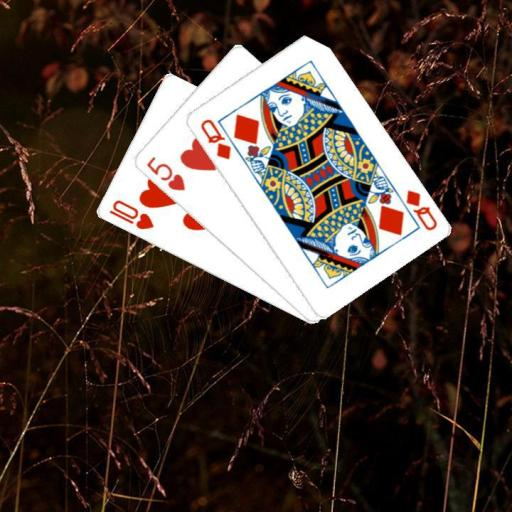10H: (105, 196, 155, 231)
5H: (143, 153, 187, 193)
QD: (196, 116, 233, 162), (402, 187, 439, 233)
